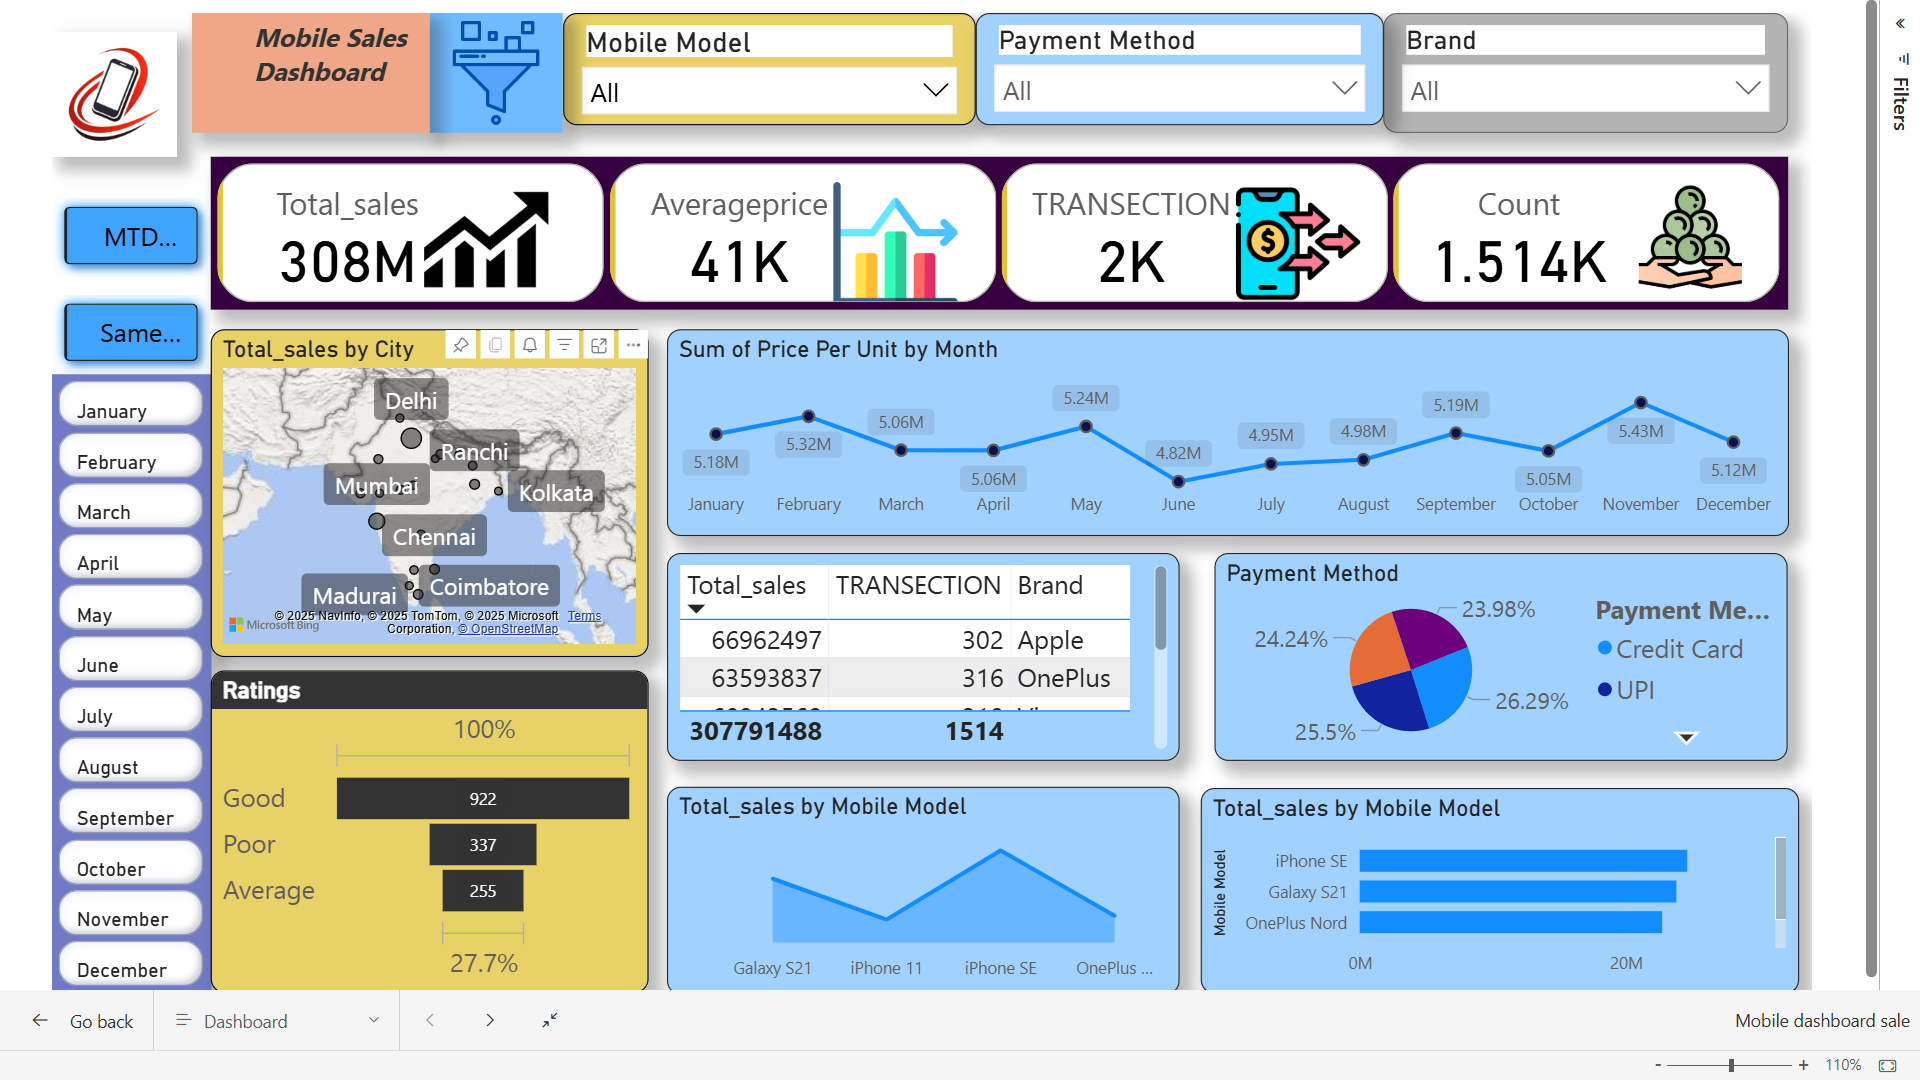

The dashboard page shown, as its layout file describes it:
{"tool":"powerbi","page":{"name":"Dashboard","canvas":[1280,720],"ordinal":0},"visuals":[{"type":"image","box":[0,13.3,91.1,91.1],"z":0},{"type":"advancedSlicerVisual","fields":{"Values":["cousrom calender.Date.Variation.Date Hierarchy.Month"]},"box":[0,262.9,115.7,455.7],"z":1000},{"type":"cardVisual","fields":{"Data":["Mobile_sale_Data.Total_sales","Mobile_sale_Data.Averageprice","Mobile_sale_Data.TRANSECTION","CountNonNull(Mobile_sale_Data.Units Sold)"]},"box":[115.7,104.3,1147.1,111.4],"z":2000},{"type":"slicer","fields":{"Values":["Mobile_sale_Data.Mobile Model"]},"box":[371.4,0,300,81.4],"z":3000},{"type":"slicer","fields":{"Values":["Mobile_sale_Data.Brand"]},"box":[968.6,0,294.3,87.1],"z":4000},{"type":"slicer","fields":{"Values":["Mobile_sale_Data.Payment Method"]},"box":[671.4,0,297.1,81.4],"z":5000},{"type":"image","box":[274.3,0,97.1,87.1],"z":6000},{"type":"textbox","box":[101.4,0,172.9,87.1],"z":7000},{"type":"map","fields":{"Category":["Mobile_sale_Data.City"],"Size":["Mobile_sale_Data.Total_sales"]},"box":[115.7,230,318.6,238.6],"z":8000},{"type":"lineChart","fields":{"Category":["cousrom calender.Date.Variation.Date Hierarchy.Month","cousrom calender.Date.Variation.Date Hierarchy.Day"],"Y":["Sum(Mobile_sale_Data.Price Per Unit)"]},"box":[447.1,230,815.7,150],"z":9000},{"type":"funnel","title":"Ratings ","fields":{"Category":["Mobile_sale_Data.Rating"],"Y":["CountNonNull(Mobile_sale_Data.Customer Ratings)"]},"box":[115.7,478.6,318.6,234.3],"z":10000},{"type":"pieChart","title":" Payment Method","fields":{"Y":["Mobile_sale_Data.TRANSECTION"],"Category":["Mobile_sale_Data.Payment Method"]},"box":[845.7,392.9,417.1,151.4],"z":11000},{"type":"clusteredBarChart","fields":{"Y":["Mobile_sale_Data.Total_sales"],"Category":["Mobile_sale_Data.Mobile Model"]},"box":[835.7,564,435,149.6],"z":12000},{"type":"areaChart","fields":{"Category":["Mobile_sale_Data.Mobile Model","cousrom calender.Day Name"],"Y":["Mobile_sale_Data.Total_sales"]},"box":[447.1,562.9,372.9,151.4],"z":13000},{"type":"tableEx","fields":{"Values":["Mobile_sale_Data.Total_sales","Mobile_sale_Data.TRANSECTION","Mobile_sale_Data.Brand"]},"box":[447.1,392.9,372.9,151.4],"z":14000},{"type":"pageNavigator","box":[0,131.7,115.3,131.7],"z":15000}]}

Visuals, with their boxes on the page's 1280x720 design canvas (x1, y1, x2, y2). These are canvas units, not pixel positions in the 1920x1080 screenshot, which may show the page scaled, cropped or inside an application window:
image: [x1=0, y1=13, x2=91, y2=104]
advancedSlicerVisual - cousrom calender.Date.Variation.Date Hierarchy.Month: [x1=0, y1=263, x2=116, y2=719]
cardVisual - Mobile_sale_Data.Total_sales x Mobile_sale_Data.Averageprice: [x1=116, y1=104, x2=1263, y2=216]
slicer - Mobile_sale_Data.Mobile Model: [x1=371, y1=0, x2=671, y2=81]
slicer - Mobile_sale_Data.Brand: [x1=969, y1=0, x2=1263, y2=87]
slicer - Mobile_sale_Data.Payment Method: [x1=671, y1=0, x2=968, y2=81]
image: [x1=274, y1=0, x2=371, y2=87]
textbox: [x1=101, y1=0, x2=274, y2=87]
map - Mobile_sale_Data.City x Mobile_sale_Data.Total_sales: [x1=116, y1=230, x2=434, y2=469]
lineChart - cousrom calender.Date.Variation.Date Hierarchy.Month x cousrom calender.Date.Variation.Date Hierarchy.Day: [x1=447, y1=230, x2=1263, y2=380]
"Ratings " funnel: [x1=116, y1=479, x2=434, y2=713]
" Payment Method" pieChart: [x1=846, y1=393, x2=1263, y2=544]
clusteredBarChart - Mobile_sale_Data.Total_sales x Mobile_sale_Data.Mobile Model: [x1=836, y1=564, x2=1271, y2=714]
areaChart - Mobile_sale_Data.Mobile Model x cousrom calender.Day Name: [x1=447, y1=563, x2=820, y2=714]
tableEx - Mobile_sale_Data.Total_sales x Mobile_sale_Data.TRANSECTION: [x1=447, y1=393, x2=820, y2=544]
pageNavigator: [x1=0, y1=132, x2=115, y2=263]
